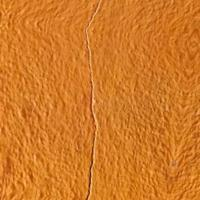crack: (70, 4, 126, 199)
